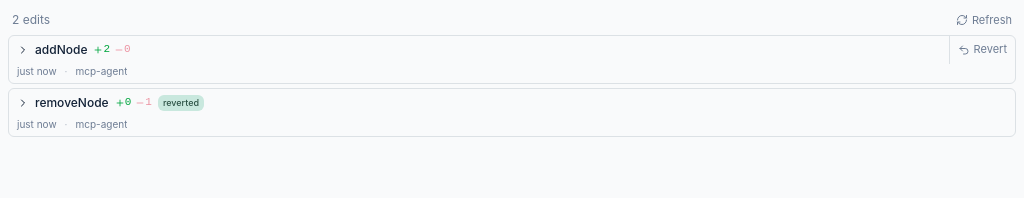
Test: AgentEditsPanel › shows the diff when a batch is expanded
// Expand batch A via its toggle (the tool-name button).
Click the text "addNode" at {"x": 61, "y": 50}, box [35, 42, 88, 58]
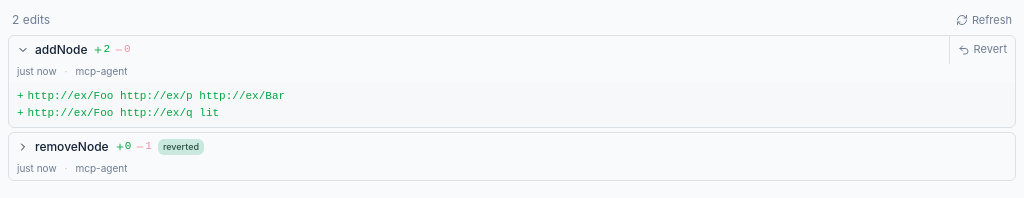
Expected: the text "http://ex/Foo http://ex/p http://ex/Bar" is shown, [28, 88, 285, 104]
